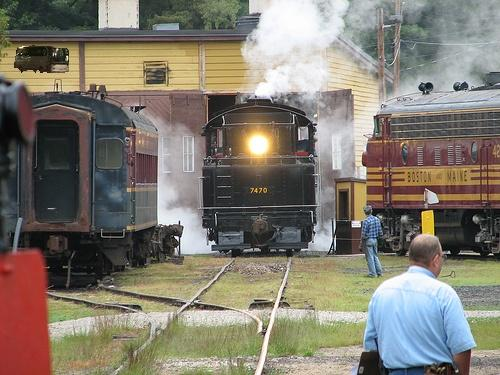tampered: (15, 46, 69, 73)
